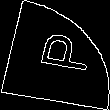P_W: (21, 31, 89, 79)
